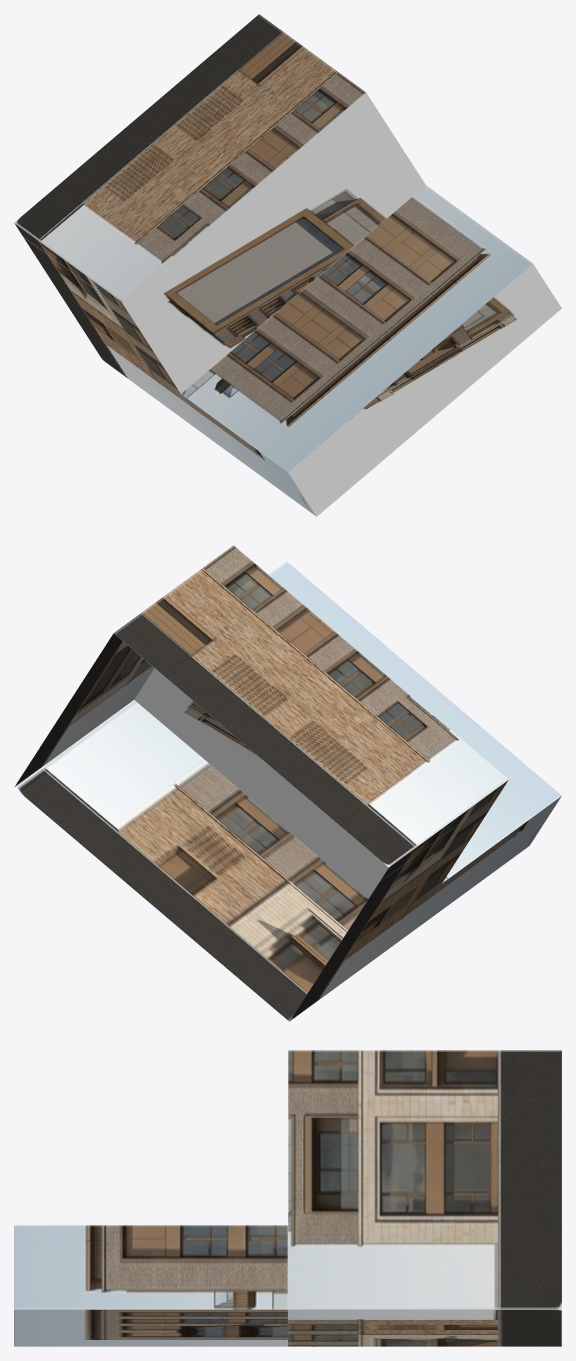
3 renders of one model, top to bottom at view 1: azimuth 30°, elevation 25°; view 2: azimuth 150°, elevation 25°; view 3: azimuth 270°, elevation 25°, orthographic. The views are drawn at different scales.
Visible parts, largest first — view 1: MAAS textured facade mesh; view 2: MAAS textured facade mesh; view 3: MAAS textured facade mesh.
Part boxes in pixels (box(x1,y1,x2,y2)): MAAS textured facade mesh: box(14, 14, 561, 516); MAAS textured facade mesh: box(14, 545, 561, 1021); MAAS textured facade mesh: box(14, 1050, 561, 1346).
Bounding box in the file's own units: 15.13 × 13.33 × 16.8.
1 material, 1 textured.
